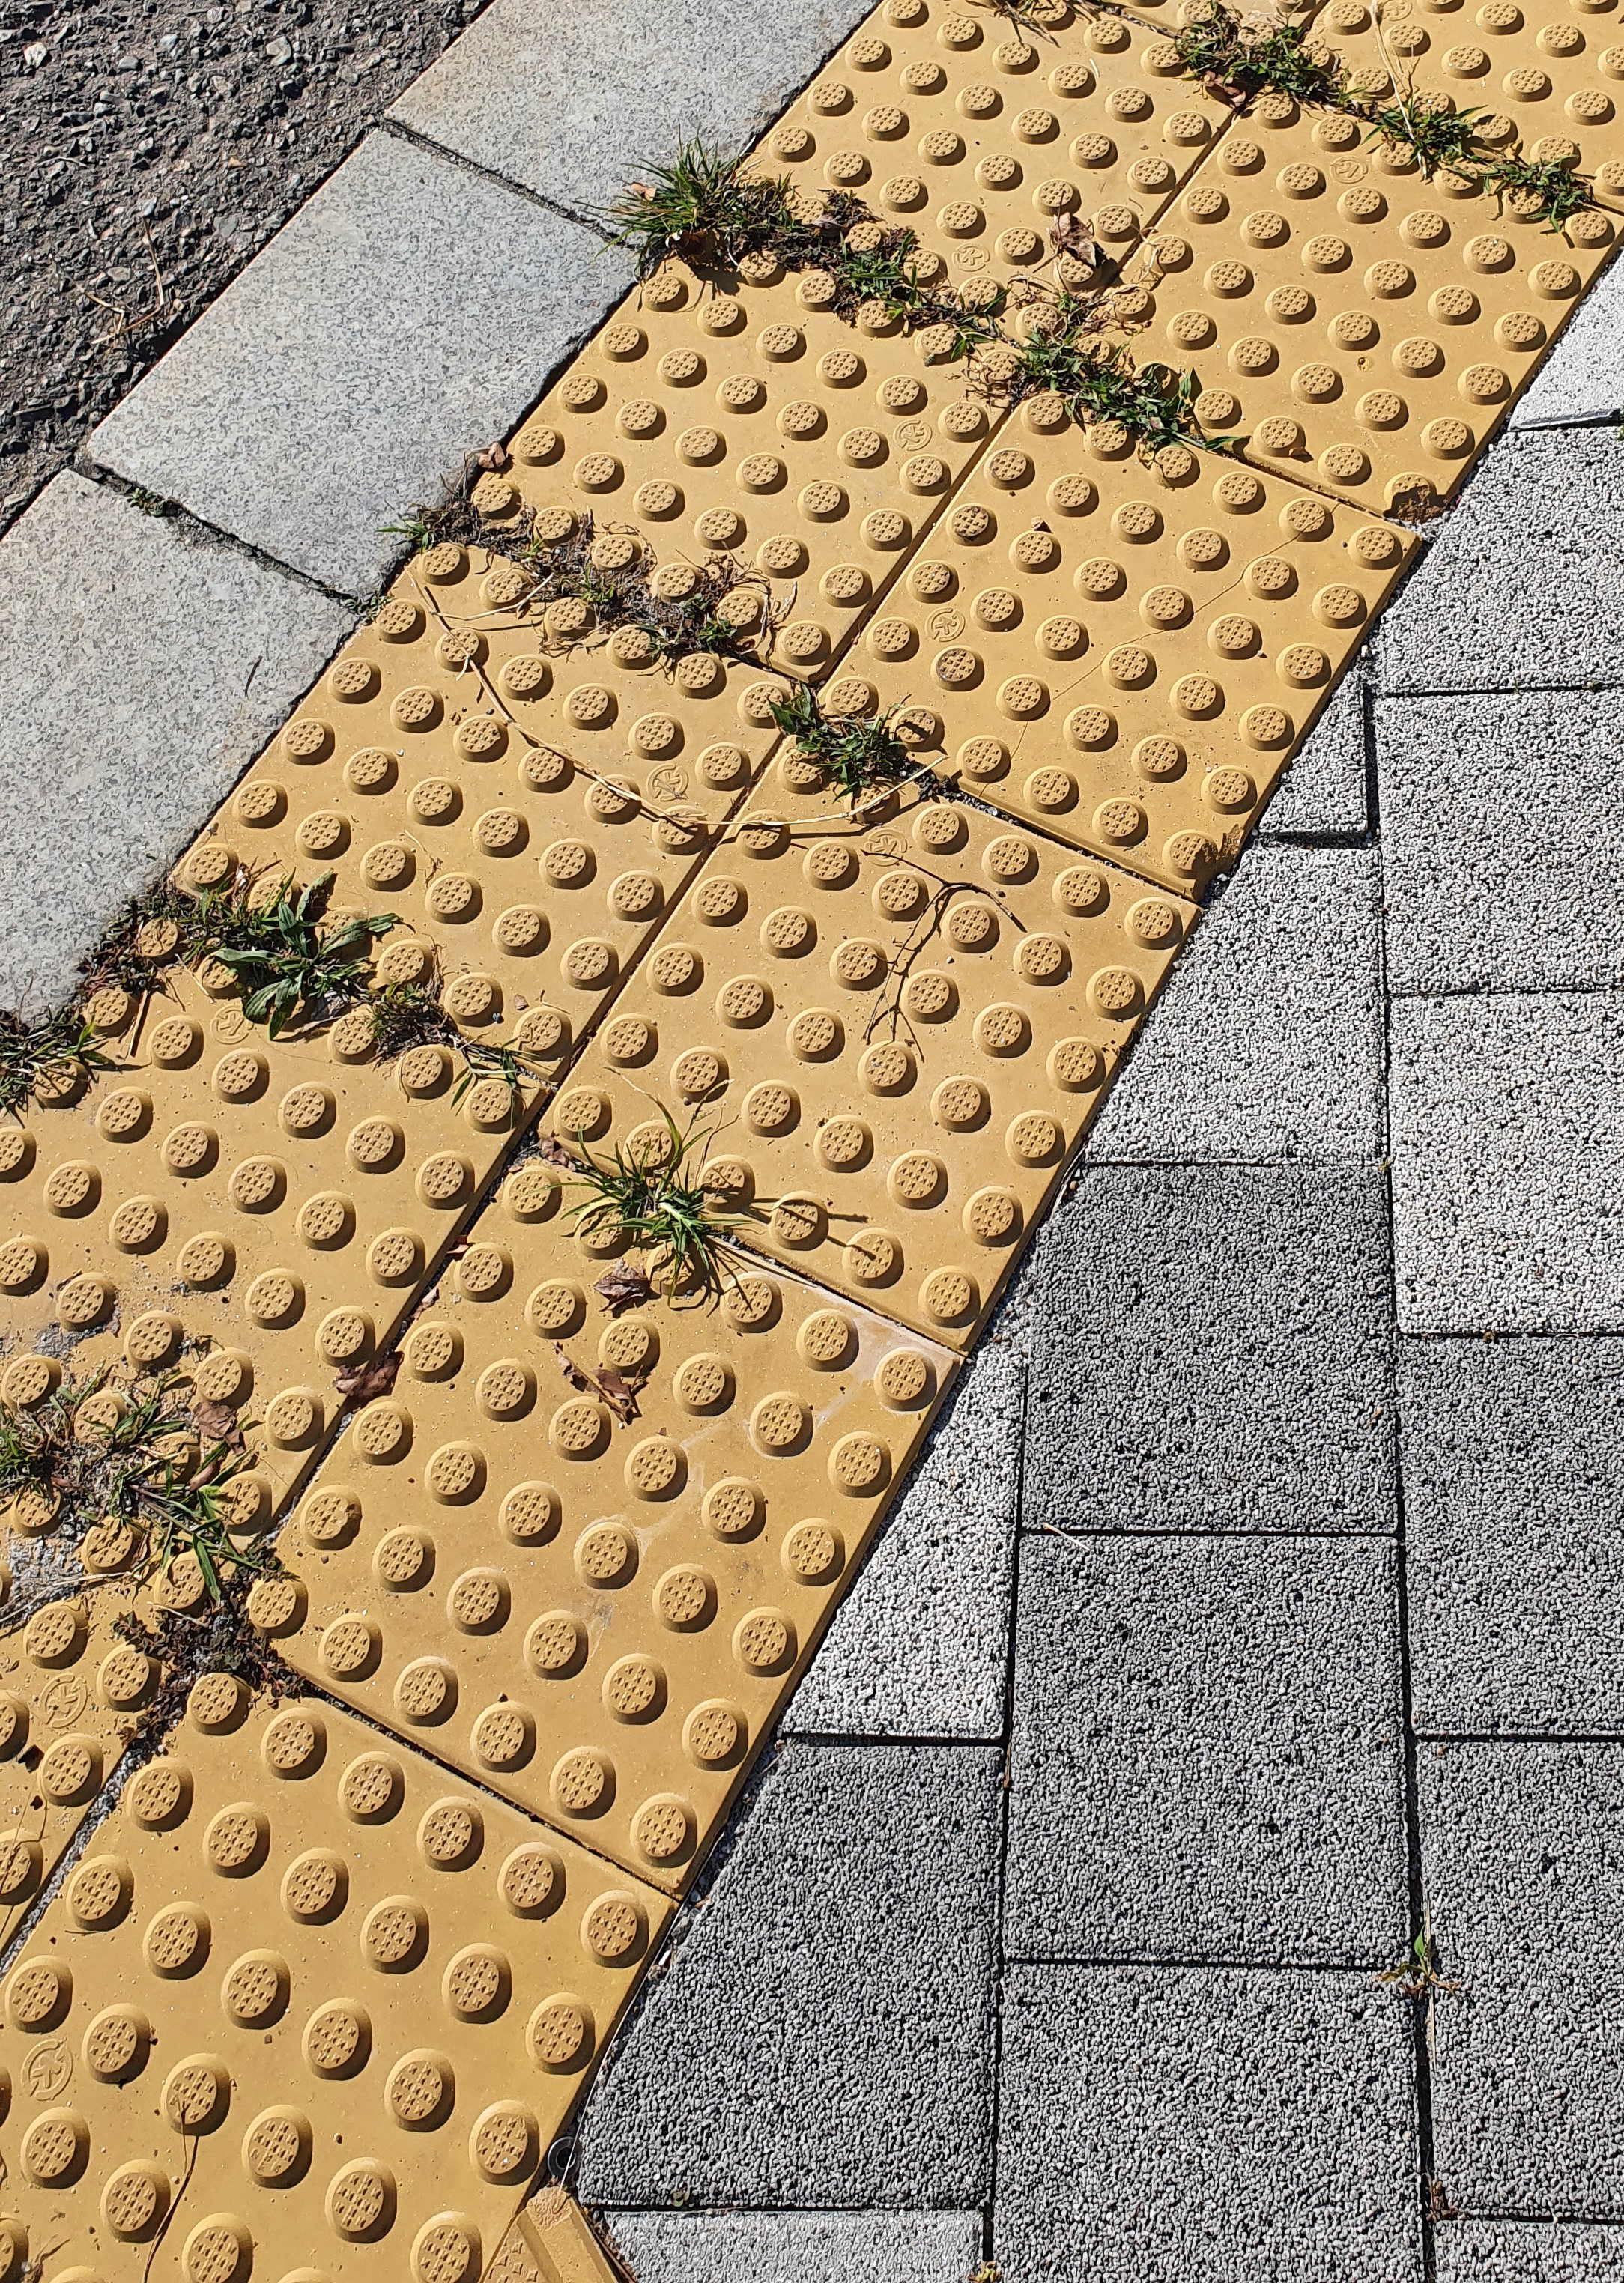warningBlock: (7, 1657, 619, 2283), (387, 1167, 907, 1721), (691, 772, 1146, 1309), (914, 411, 1406, 856), (12, 933, 434, 1446), (227, 582, 677, 954), (1200, 107, 1613, 482), (578, 253, 984, 629), (801, 37, 1230, 294)
